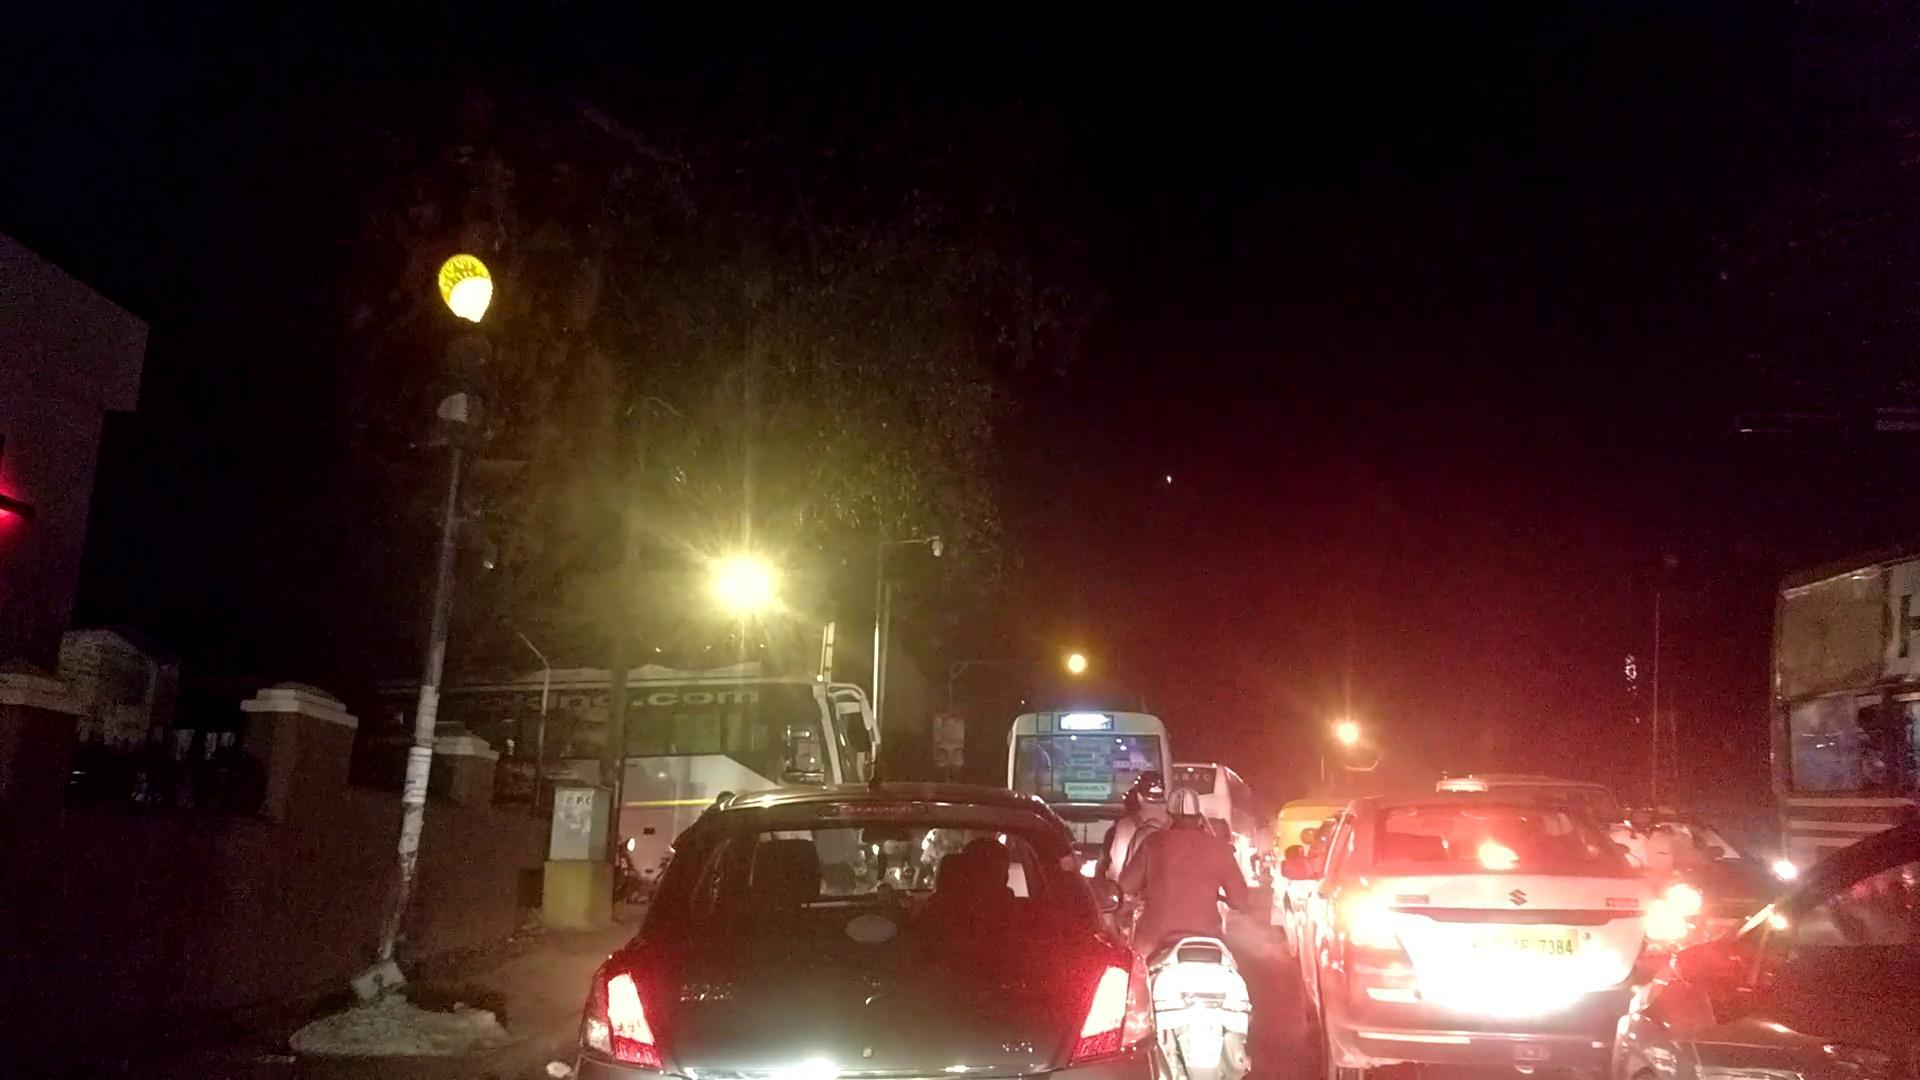on: (650, 442, 872, 764)
